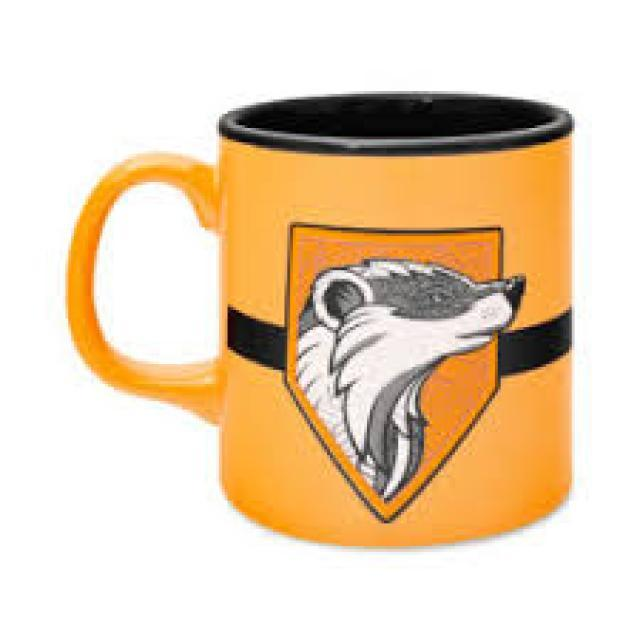taza: (64, 89, 574, 548)
